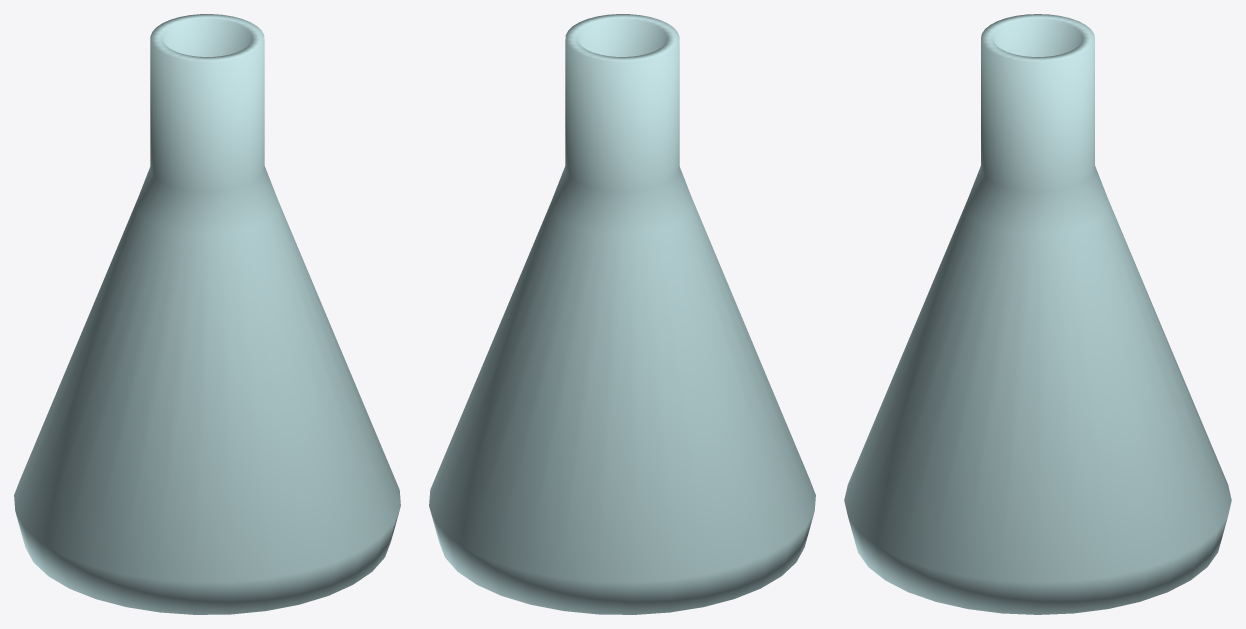
File: ConicalFlask.fbx
The picture shows the model from 3 angles, left to right: view 1: azimuth 30°, elevation 25°; view 2: azimuth 150°, elevation 25°; view 3: azimuth 270°, elevation 25°; orthographic projection.
Visible parts, largest first — view 1: ConicalFlask; view 2: ConicalFlask; view 3: ConicalFlask.
Part boxes in pixels (x1,y1,x2,y2): ConicalFlask: (14,14,400,614); ConicalFlask: (429,14,815,614); ConicalFlask: (844,14,1231,614).
Bounding box in the file's own units: 19 × 27 × 19.
